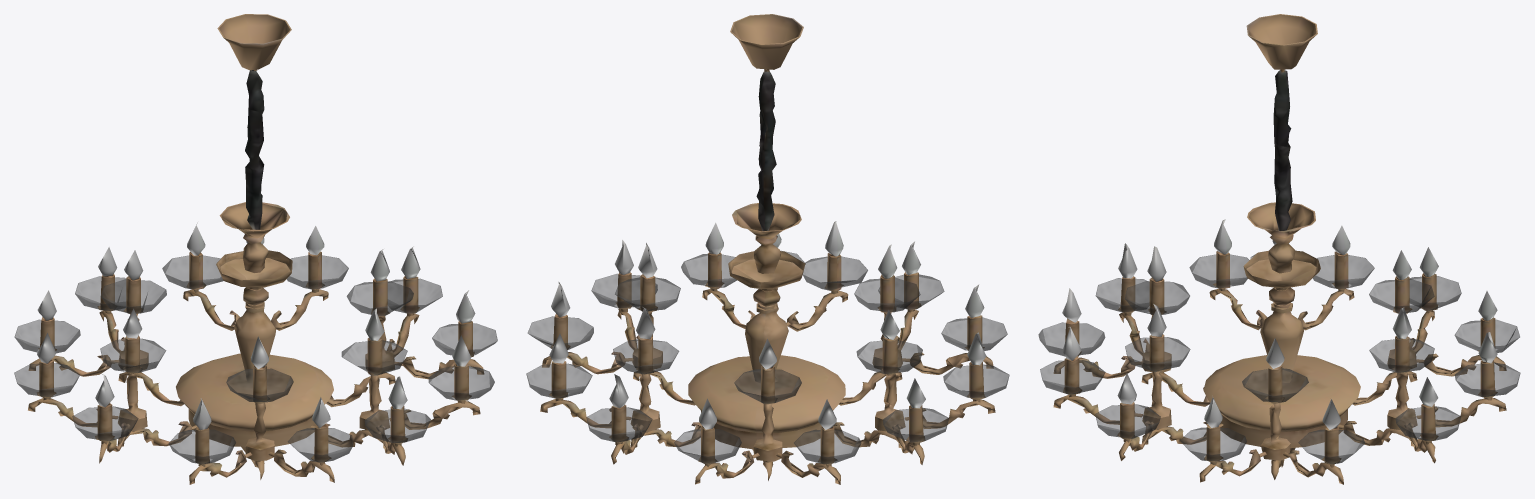
File: ph-chandelier-03.glb
The picture shows the model from 3 angles, left to right: view 1: azimuth 30°, elevation 25°; view 2: azimuth 150°, elevation 25°; view 3: azimuth 270°, elevation 25°; orthographic projection.
Parts seen in each view (by area): view 1: Chandelier_03; view 2: Chandelier_03; view 3: Chandelier_03.
Part boxes in pixels (<box>): Chandelier_03: <box>14,14,497,484</box>; Chandelier_03: <box>526,14,1009,484</box>; Chandelier_03: <box>1038,14,1520,484</box>.
Bounding box in the file's own units: 1 × 1 × 0.9979.
2 materials, 2 textured.
